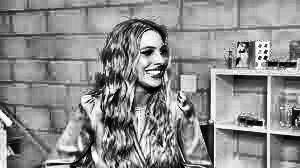happy: (120, 12, 186, 128)
